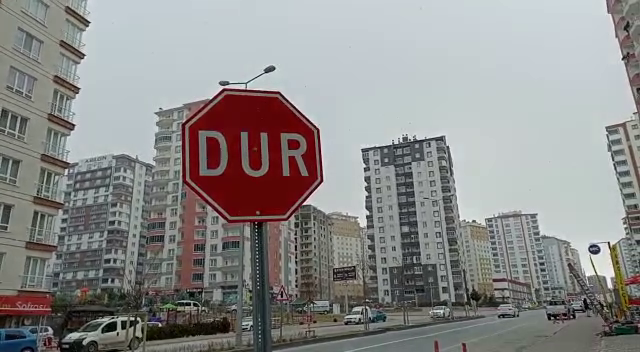stop: (178, 86, 327, 226)
